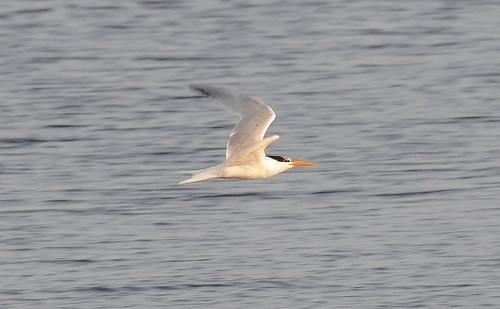bird: (178, 82, 319, 190)
